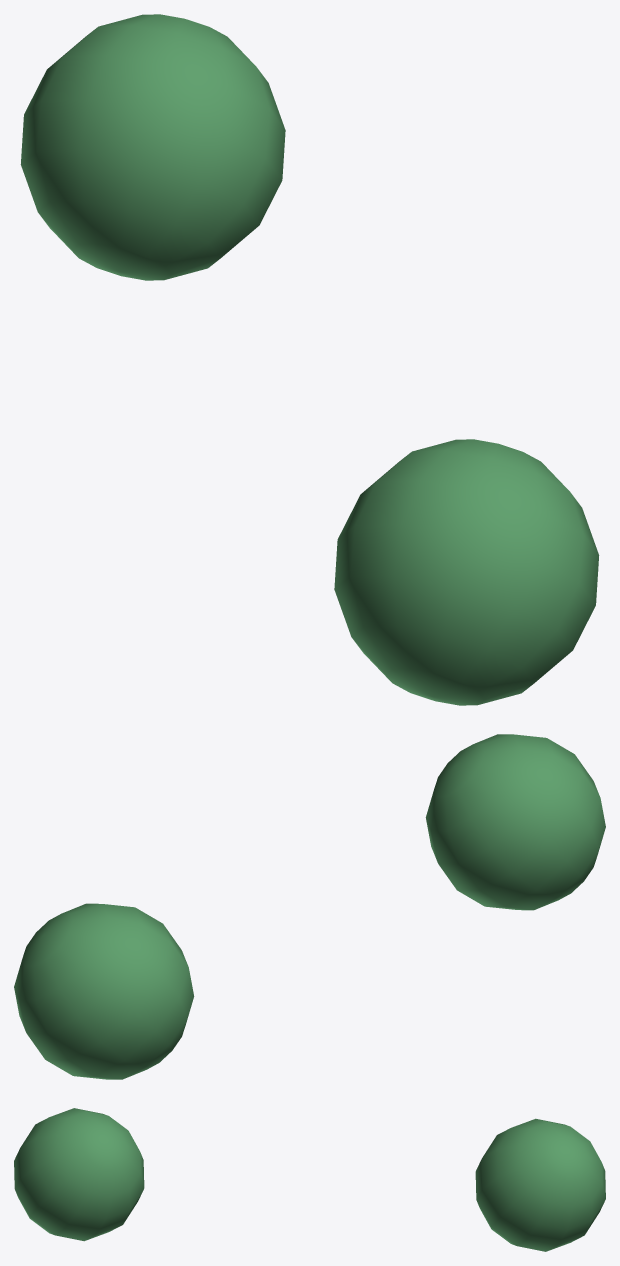
The picture shows the model from 3 angles, top to bottom: view 1: azimuth 30°, elevation 25°; view 2: azimuth 150°, elevation 25°; view 3: azimuth 270°, elevation 25°; orthographic projection. The views are drawn at different scales.
Parts seen in each view (by area): view 1: 右侧甲状腺淋巴结; view 2: 右侧甲状腺淋巴结; view 3: 右侧甲状腺淋巴结.
Boxes of the visible parts, x1,y1,x2,y2 form: 右侧甲状腺淋巴结: [20, 14, 599, 705]; 右侧甲状腺淋巴结: [14, 734, 605, 1079]; 右侧甲状腺淋巴结: [14, 1108, 605, 1251].
Size of the model in its own units: 0.00622 by 0.00458 by 0.017.
